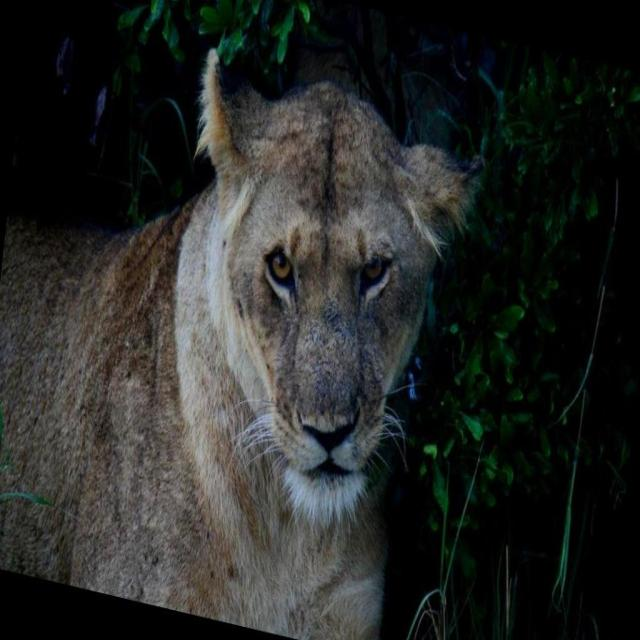Lion: (0, 3, 491, 639)
